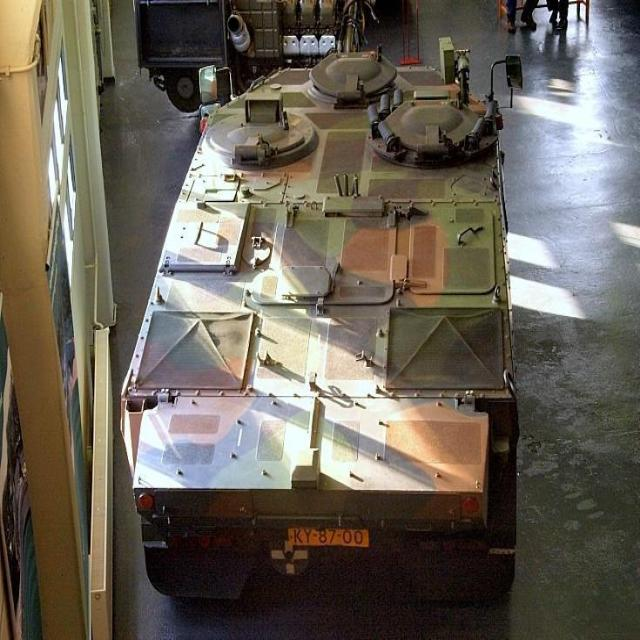Tanks: (136, 53, 535, 599)
